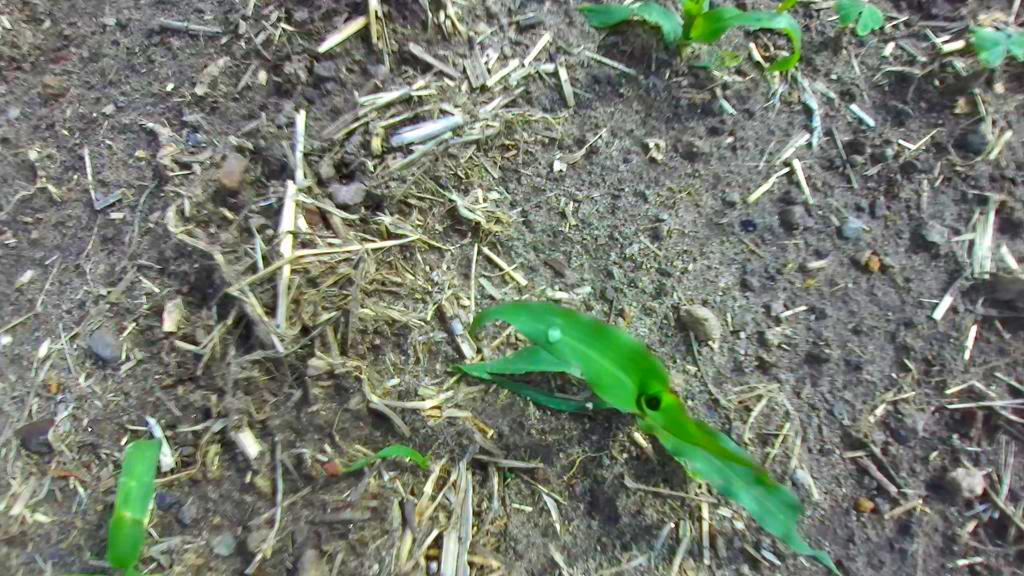BroWeed: (969, 25, 1024, 68), (832, 0, 885, 35), (801, 276, 819, 288), (504, 470, 515, 479)
Maize: (446, 264, 895, 576), (63, 437, 161, 576), (341, 442, 431, 472)
